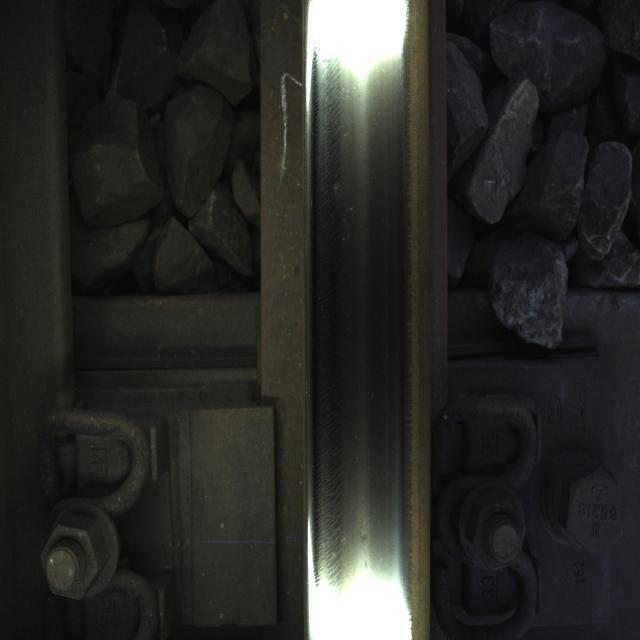break: (316, 58, 404, 526)
